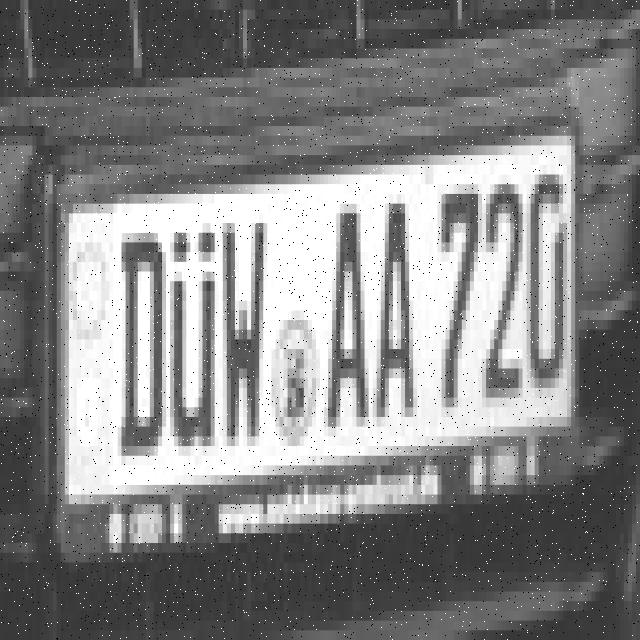licenseplate: (34, 127, 590, 569)
